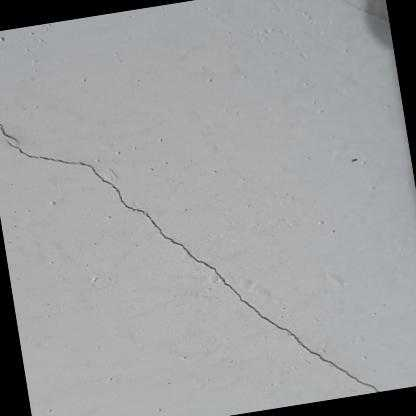crack: (5, 139, 380, 392), (0, 124, 18, 144)
